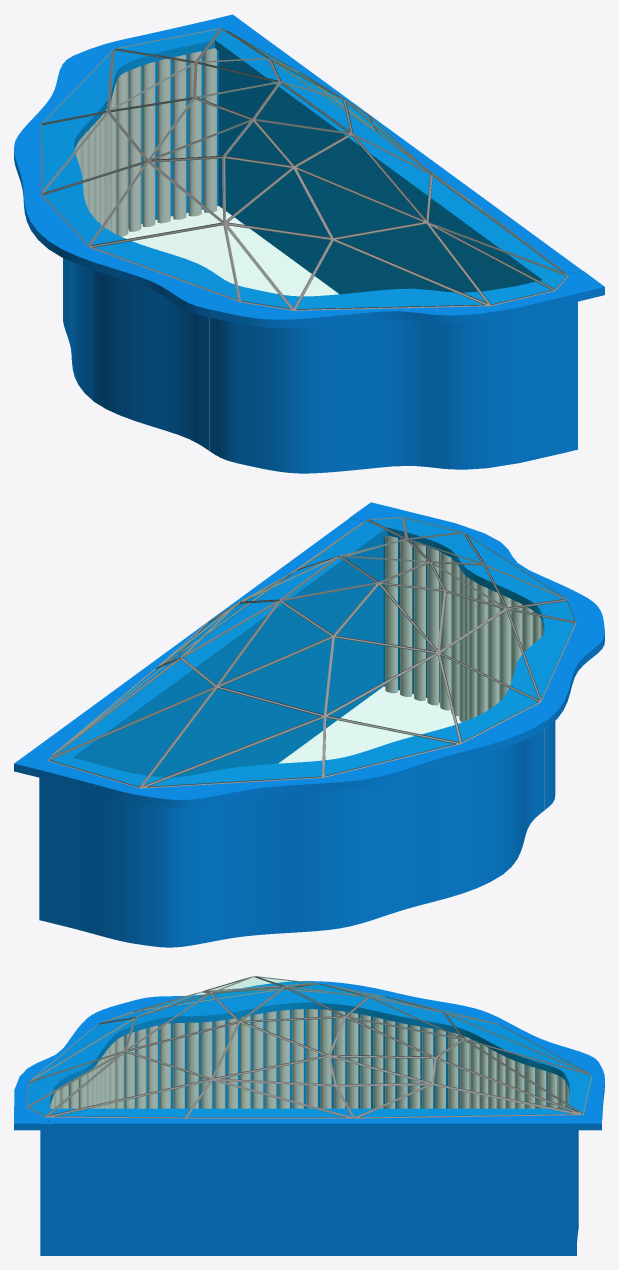
The model's file is SM_fitting_room_V2.FBX.
3 views of the same model, one above another, from view 1: azimuth 30°, elevation 25°; view 2: azimuth 150°, elevation 25°; view 3: azimuth 270°, elevation 25° (orthographic). The views are drawn at different scales.
Visible parts, largest first — view 1: SM_path003, mirroir_wall, SM_path006, dome001_final, mirroir001, SM_ref_tube076, SM_ref_tube077, SM_ref_tube075, SM_ref_tube074, SM_ref_tube073, SM_ref_tube072, SM_ref_tube078 (+1 smaller); view 2: SM_path003, mirroir_wall, SM_path006, dome001_final, mirroir001, SM_ref_tube131, SM_ref_tube130, SM_ref_tube128, SM_ref_tube129, SM_ref_tube122, SM_ref_tube121, SM_ref_tube127 (+6 smaller); view 3: mirroir_wall, SM_path006, dome001_final, mirroir001, SM_path003, SM_ref_tube101, SM_ref_tube102, SM_ref_tube100, SM_ref_tube103, SM_ref_tube104, SM_ref_tube098, SM_ref_tube105 (+28 smaller).
Part boxes in pixels (x1=…): SM_path003: x1=63, y1=50, x2=558, y2=473; mirroir_wall: x1=218, y1=51, x2=577, y2=454; SM_path006: x1=14, y1=14, x2=604, y2=327; dome001_final: x1=41, y1=28, x2=568, y2=310; mirroir001: x1=215, y1=30, x2=582, y2=281; SM_ref_tube076: x1=142, y1=62, x2=155, y2=227; SM_ref_tube077: x1=128, y1=66, x2=141, y2=231; SM_ref_tube075: x1=157, y1=59, x2=170, y2=223; SM_ref_tube074: x1=173, y1=54, x2=186, y2=219; SM_ref_tube073: x1=188, y1=51, x2=201, y2=216; SM_ref_tube072: x1=204, y1=48, x2=216, y2=212; SM_ref_tube078: x1=116, y1=71, x2=128, y2=236; SM_path003: x1=51, y1=537, x2=555, y2=947; mirroir_wall: x1=39, y1=538, x2=383, y2=922; SM_path006: x1=14, y1=502, x2=604, y2=807; dome001_final: x1=47, y1=517, x2=576, y2=788; mirroir001: x1=35, y1=518, x2=387, y2=759; SM_ref_tube131: x1=385, y1=535, x2=397, y2=693; SM_ref_tube130: x1=400, y1=538, x2=412, y2=696; SM_ref_tube128: x1=427, y1=547, x2=439, y2=705; SM_ref_tube129: x1=414, y1=542, x2=425, y2=700; SM_ref_tube122: x1=476, y1=583, x2=487, y2=715; SM_ref_tube121: x1=487, y1=588, x2=499, y2=709; SM_ref_tube127: x1=440, y1=552, x2=450, y2=710; mirroir_wall: x1=40, y1=1122, x2=576, y2=1255; SM_path006: x1=14, y1=981, x2=604, y2=1130; dome001_final: x1=26, y1=976, x2=592, y2=1118; mirroir001: x1=49, y1=1108, x2=567, y2=1130; SM_path003: x1=69, y1=1009, x2=578, y2=1240; SM_ref_tube101: x1=306, y1=1009, x2=317, y2=1108; SM_ref_tube102: x1=292, y1=1009, x2=303, y2=1108; SM_ref_tube100: x1=320, y1=1009, x2=331, y2=1108; SM_ref_tube103: x1=278, y1=1010, x2=289, y2=1108; SM_ref_tube104: x1=265, y1=1011, x2=276, y2=1108; SM_ref_tube098: x1=347, y1=1012, x2=358, y2=1108; SM_ref_tube105: x1=252, y1=1013, x2=263, y2=1108.
Size of the model in its own units: 945 by 629 by 1652.
